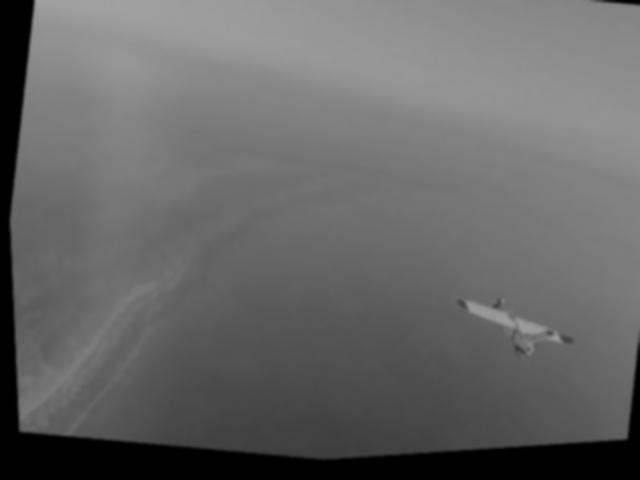hedef: (436, 287, 583, 388)
